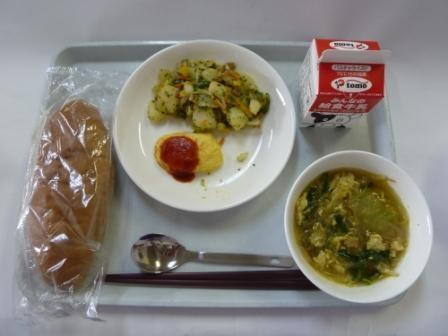Bread: (22, 94, 120, 304)
Milk: (297, 30, 395, 131)
Soups: (292, 158, 425, 289)
vegetable based cooked food: (159, 52, 265, 131)
